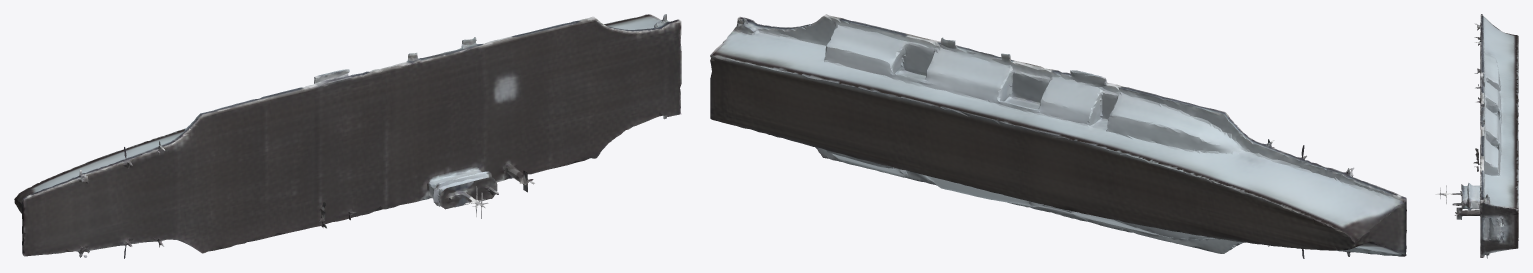
Rendered from USS_Nimitz_CVN68_AI_Rodin.glb.
3 views of the same model, side by side, from view 1: azimuth 30°, elevation 25°; view 2: azimuth 150°, elevation 25°; view 3: azimuth 270°, elevation 25° (orthographic). The views are drawn at different scales.
Visible parts, largest first — view 1: USS_Nimitz_CVN68; view 2: USS_Nimitz_CVN68; view 3: USS_Nimitz_CVN68.
Boxes of the visible parts, <box> form: USS_Nimitz_CVN68: <box>14,14,681,258</box>; USS_Nimitz_CVN68: <box>710,14,1406,258</box>; USS_Nimitz_CVN68: <box>1435,14,1518,258</box>.
Bounding box in the file's own units: 1.89 × 0.4111 × 0.3352.
Materials: 1 (1 with a texture image).
